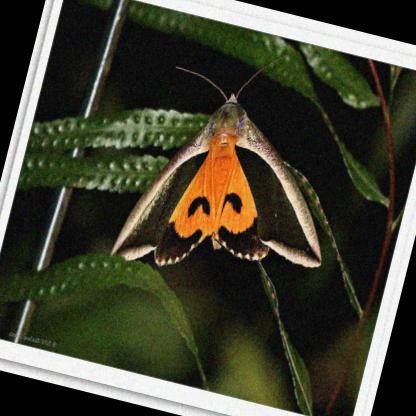fruit sucking moth: (110, 94, 321, 270)
